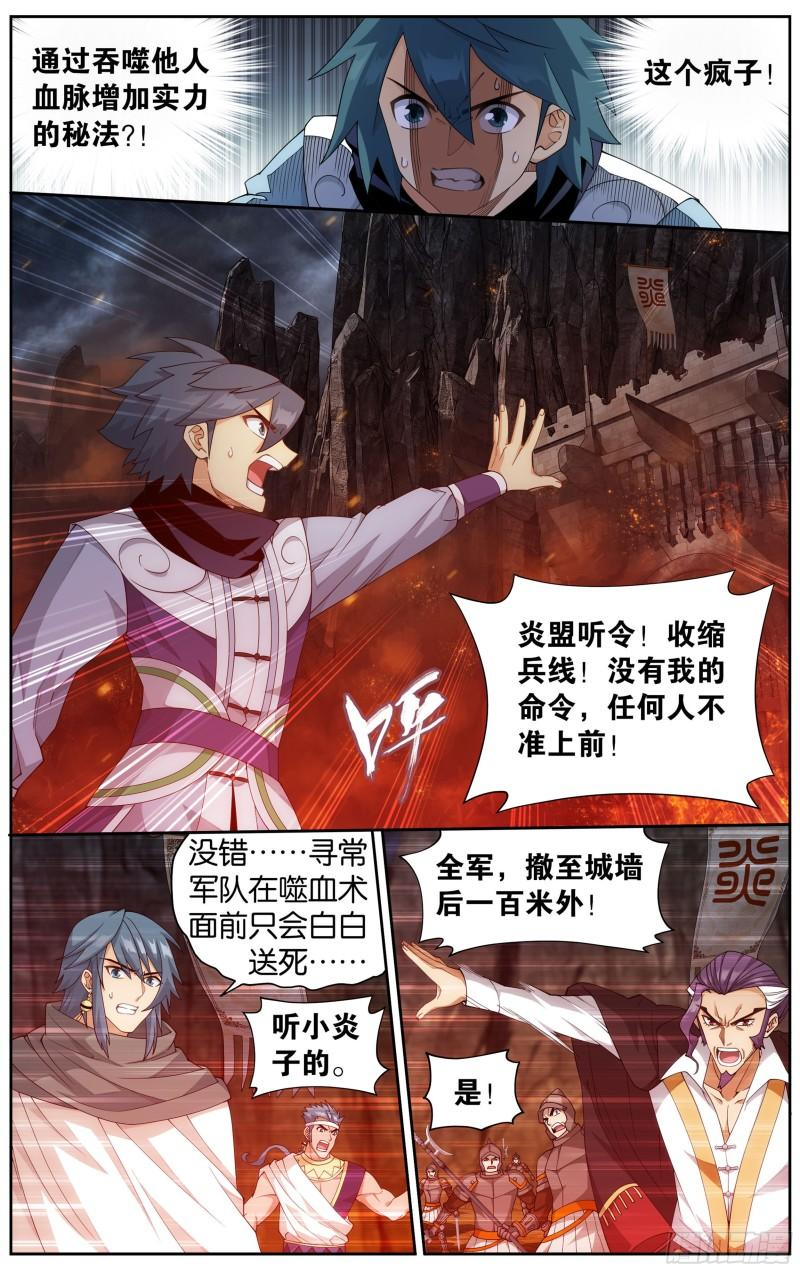boxBomb: (444, 562, 783, 811), (399, 826, 690, 958), (240, 994, 390, 1102), (420, 1051, 528, 1132)
boxEllipse: (165, 823, 393, 994)
boxFlash: (6, 8, 264, 200), (591, 11, 795, 170)
minBox: (3, 178, 793, 835), (375, 817, 792, 1261), (0, 8, 792, 239), (0, 826, 417, 1261)
